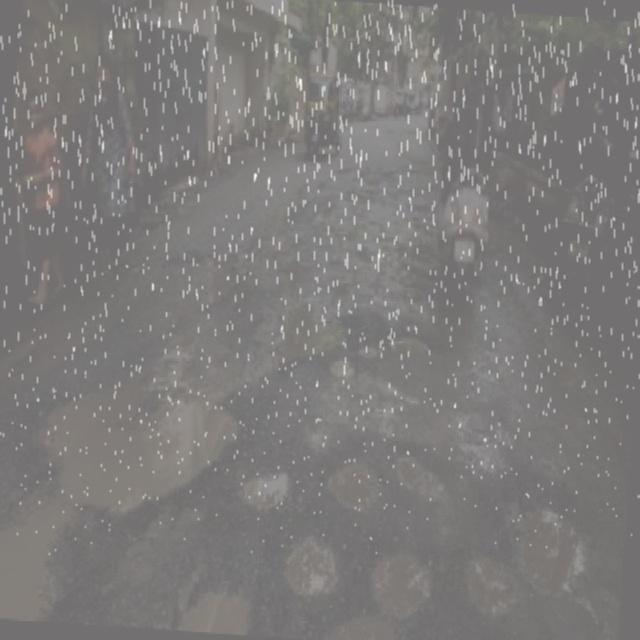Pothole: (0, 357, 248, 515), (508, 488, 602, 608), (252, 301, 364, 389), (0, 485, 58, 620), (355, 536, 439, 621), (271, 534, 352, 598), (454, 552, 520, 628), (246, 219, 317, 284), (319, 446, 384, 515), (392, 431, 450, 504), (432, 168, 486, 240), (346, 167, 417, 213), (448, 235, 491, 277), (388, 327, 438, 360), (349, 248, 381, 288), (346, 344, 380, 365), (332, 352, 356, 380)
